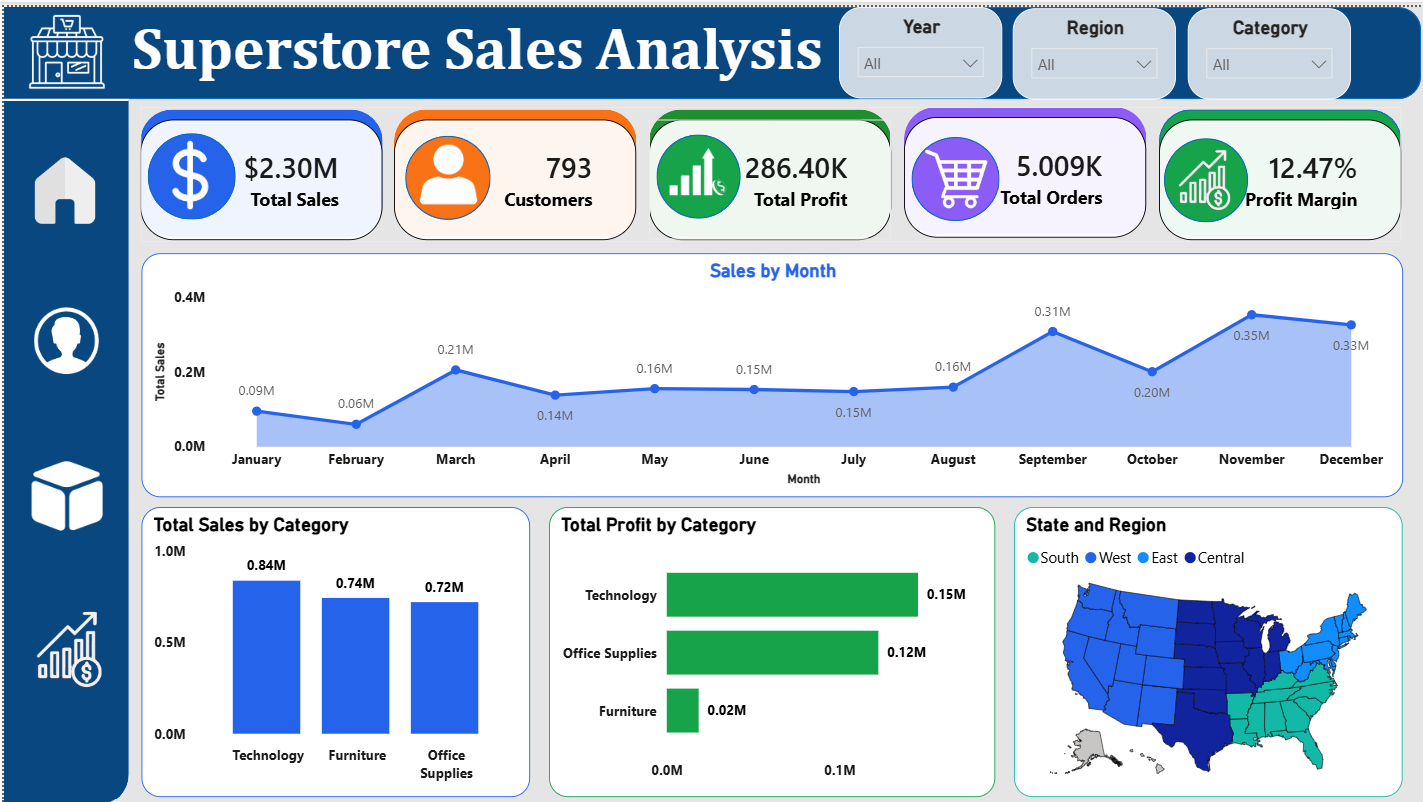

This screenshot's page, from the dashboard's own definition file:
{"tool":"powerbi","page":{"name":"Home","canvas":[1280,720],"ordinal":0},"visuals":[{"type":"shape","box":[811.1,90.4,218.8,115],"z":0,"group":"g3"},{"type":"shape","box":[122.4,92.9,218.8,115],"z":0,"group":"g2"},{"type":"shape","box":[351.1,92.9,218.8,115],"z":0,"group":"g4"},{"type":"shape","box":[581.2,92.9,218.8,115],"z":0,"group":"g7"},{"type":"shape","box":[1041.2,92.9,218.8,115],"z":0,"group":"g6"},{"type":"shape","box":[361.9,116.1,77,75.8],"z":0,"group":"g5"},{"type":"clusteredColumnChart","fields":{"Category":["Orders.Category"],"Y":["_measure.Total Sales"]},"box":[123.8,451.2,350,261.2],"z":0},{"type":"shape","box":[0,0,1277.9,83.2],"z":1000},{"type":"cardVisual","fields":{"Data":["_measure.Total Orders"]},"box":[811.1,99.2,218.8,108.8],"z":1000,"group":"g3"},{"type":"cardVisual","fields":{"Data":["_measure.Total Sales"]},"box":[122.4,101.7,218.8,108.8],"z":1000,"group":"g2"},{"type":"cardVisual","fields":{"Data":["_measure.Total Customers"]},"box":[351.1,101.7,218.8,108.8],"z":1000,"group":"g4"},{"type":"cardVisual","fields":{"Data":["_measure.Total Profit"]},"box":[581.2,101.7,218.8,108.8],"z":1000,"group":"g7"},{"type":"cardVisual","fields":{"Data":["_measure.Profit Margin %"]},"box":[1041.2,101.7,218.8,108.8],"z":1000,"group":"g6"},{"type":"shape","box":[129.1,114.6,79.3,77.9],"z":1000,"group":"g5"},{"type":"shape","box":[1045.5,118.6,75.8,75.8],"z":2000,"group":"g5"},{"type":"clusteredBarChart","fields":{"Category":["Orders.Category"],"Y":["_measure.Total Profit"]},"box":[491.2,451.2,402.5,261.2],"z":2000},{"type":"textbox","box":[110.1,1.2,781.4,81.9],"z":3000},{"type":"shape","box":[588.2,114.9,75.8,75.8],"z":3000,"group":"g5"},{"type":"image","title":"Image5","box":[1044.3,124.7,75.8,64.8],"z":4000,"group":"g5"},{"type":"lineChart","title":"Sales by Month","fields":{"Y":["_measure.Total Sales"],"Category":["Date Table.Date.Variation.Date Hierarchy.Year","Date Table.Date.Variation.Date Hierarchy.Quarter","Date Table.Date.Variation.Date Hierarchy.Month","Date Table.Date.Variation.Date Hierarchy.Day"]},"box":[123.8,222.5,1137.5,220],"z":4000},{"type":"image","title":"Image4","box":[807,117.4,102.7,75.8],"z":5000,"group":"g5"},{"type":"shapeMap","fields":{"Category":["Orders.State"],"Series":["Orders.Region"]},"box":[911.2,451.2,350,261.2],"z":5000},{"type":"shape","box":[0,0,112.5,720.2],"z":6000},{"type":"image","title":"Image3","box":[575.9,92.9,99,112.5],"z":6000,"group":"g5"},{"type":"image","title":"Image2","box":[344.8,106.4,112.5,86.8],"z":7000,"group":"g5"},{"type":"image","box":[16.2,123.8,78.8,81.2],"z":7000},{"type":"image","title":"Image1","box":[126.2,118.1,81.9,68.5],"z":8000,"group":"g5"},{"type":"image","box":[12.5,258.8,87.5,83.8],"z":8000},{"type":"image","box":[10,387.5,93.8,106.2],"z":9000},{"type":"image","box":[6.2,538.8,103.8,81.2],"z":10000},{"type":"group","id":"g1","title":"cards Group ","box":[122.4,90.4,1138.1,121],"z":11000},{"type":"slicer","title":"Year","fields":{"Values":["Date Table.Date.Variation.Date Hierarchy.Year","Date Table.Date.Variation.Date Hierarchy.Quarter","Date Table.Date.Variation.Date Hierarchy.Month","Date Table.Date.Variation.Date Hierarchy.Day"]},"box":[752.5,0,147.5,82.5],"z":12000},{"type":"slicer","title":"Region","fields":{"Values":["Orders.Region"]},"box":[910,1.2,147.5,82.5],"z":13000},{"type":"slicer","title":"Category","fields":{"Values":["Orders.Category"]},"box":[1067.5,1.2,147.5,82.5],"z":14000},{"type":"image","box":[6.2,5,100,71.2],"z":15000},{"type":"shape","box":[0,57.5,112.5,52.5],"z":16000},{"type":"group","id":"g2","title":"card1","box":[122.4,92.9,218.8,117.5],"z":19000,"group":"g1"},{"type":"group","id":"g3","title":"card2","box":[811.1,90.4,218.8,117.5],"z":20000,"group":"g1"},{"type":"group","id":"g4","title":"card3","box":[351.1,92.9,218.8,117.5],"z":21000,"group":"g1"},{"type":"shape","box":[818.1,117.4,79.5,75.8],"z":21000},{"type":"group","id":"g5","title":"Group 1","box":[126.2,92.9,995.1,112.5],"z":22000},{"type":"group","id":"g6","title":"card4","box":[1041.2,92.9,218.8,117.5],"z":22000,"group":"g1"},{"type":"group","id":"g7","title":"card5","box":[581.2,92.9,218.8,117.5],"z":23000,"group":"g1"}]}

Visuals, with their boxes in screenshot pixels (x1, y1, x2, y2), scaled from the page's 1280x720 canvas onto the 1423x802 screenshot:
shape: BBox(902, 101, 1145, 229)
shape: BBox(136, 103, 379, 232)
shape: BBox(390, 103, 634, 232)
shape: BBox(646, 103, 889, 232)
shape: BBox(1158, 103, 1401, 232)
shape: BBox(402, 129, 488, 214)
clusteredColumnChart - Orders.Category x _measure.Total Sales: BBox(138, 503, 527, 794)
shape: BBox(0, 0, 1421, 93)
cardVisual - _measure.Total Orders: BBox(902, 110, 1145, 232)
cardVisual - _measure.Total Sales: BBox(136, 113, 379, 234)
cardVisual - _measure.Total Customers: BBox(390, 113, 634, 234)
cardVisual - _measure.Total Profit: BBox(646, 113, 889, 234)
cardVisual - _measure.Profit Margin %: BBox(1158, 113, 1401, 234)
shape: BBox(144, 128, 232, 214)
shape: BBox(1162, 132, 1247, 217)
clusteredBarChart - Orders.Category x _measure.Total Profit: BBox(546, 503, 994, 794)
textbox: BBox(122, 1, 991, 93)
shape: BBox(654, 128, 738, 212)
"Image5" image: BBox(1161, 139, 1245, 211)
"Sales by Month" lineChart: BBox(138, 248, 1402, 493)
"Image4" image: BBox(897, 131, 1011, 215)
shapeMap - Orders.State x Orders.Region: BBox(1013, 503, 1402, 794)
shape: BBox(0, 0, 125, 801)
"Image3" image: BBox(640, 103, 750, 229)
"Image2" image: BBox(383, 119, 508, 215)
image: BBox(18, 138, 106, 228)
"Image1" image: BBox(140, 132, 231, 208)
image: BBox(14, 288, 111, 382)
image: BBox(11, 432, 115, 550)
image: BBox(7, 600, 122, 691)
"cards Group " group: BBox(136, 101, 1401, 235)
"Year" slicer: BBox(837, 0, 1001, 92)
"Region" slicer: BBox(1012, 1, 1176, 93)
"Category" slicer: BBox(1187, 1, 1351, 93)
image: BBox(7, 6, 118, 85)
shape: BBox(0, 64, 125, 123)
"card1" group: BBox(136, 103, 379, 234)
"card2" group: BBox(902, 101, 1145, 232)
"card3" group: BBox(390, 103, 634, 234)
shape: BBox(909, 131, 998, 215)
"Group 1" group: BBox(140, 103, 1247, 229)
"card4" group: BBox(1158, 103, 1401, 234)
"card5" group: BBox(646, 103, 889, 234)
